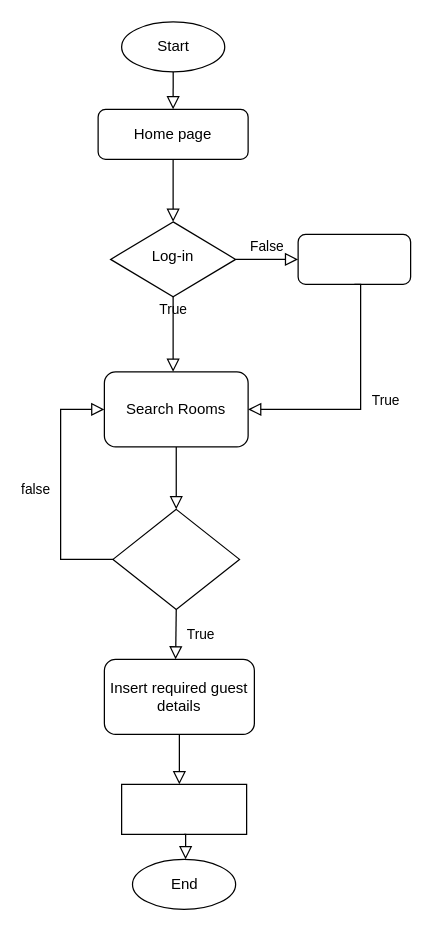
The diagram is 433 pixels wide and 931 high, and some of its shapes have lost their labels. Each missing label, with the centre of its shape:
"Check if room is available" belongs at (176,558).
"Confirm Booking" belongs at (183,808).
"Register" belongs at (354,258).
